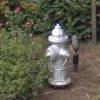Hydrant: (39, 19, 80, 94)
